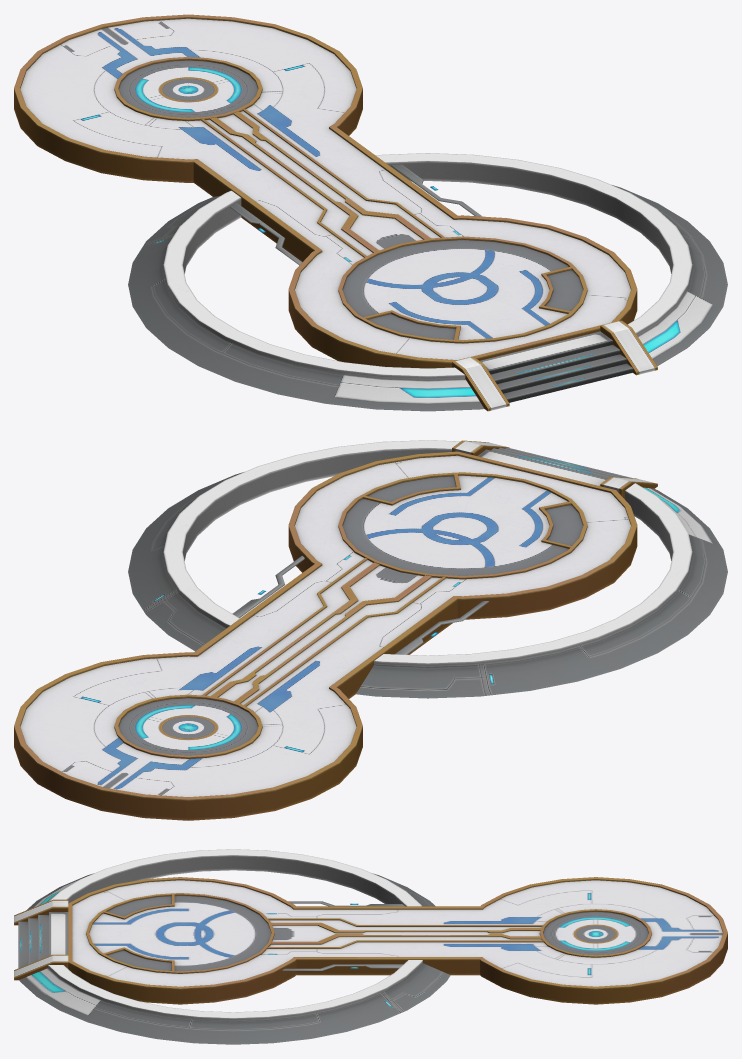
Rendered from mesh_1002_sjzm_dibiao001.FBX.
3 renders of one model, top to bottom at view 1: azimuth 30°, elevation 25°; view 2: azimuth 150°, elevation 25°; view 3: azimuth 270°, elevation 25°, orthographic. The views are drawn at different scales.
Parts seen in each view (by area): view 1: mesh_1002_sjzm_dibiao001; view 2: mesh_1002_sjzm_dibiao001; view 3: mesh_1002_sjzm_dibiao001.
Boxes of the visible parts, x1,y1,x2,y2 form: mesh_1002_sjzm_dibiao001: (14, 14, 727, 411); mesh_1002_sjzm_dibiao001: (14, 440, 727, 820); mesh_1002_sjzm_dibiao001: (14, 849, 727, 1044).
Bounding box in the file's own units: 1187 × 50.81 × 1866.
